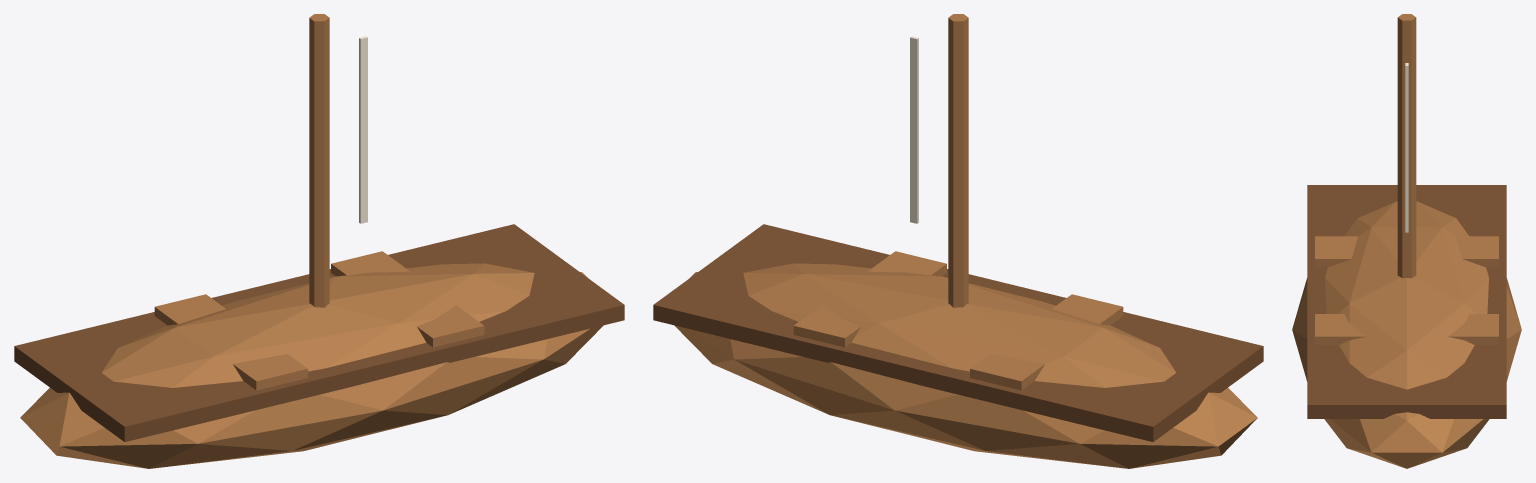
Rendered from boat.glb.
3 renders of one model, left to right at view 1: azimuth 30°, elevation 25°; view 2: azimuth 150°, elevation 25°; view 3: azimuth 270°, elevation 25°, orthographic. The views are drawn at different scales.
Parts seen in each view (by area): view 1: boat; view 2: boat; view 3: boat.
Part boxes in pixels (<box>): boat: <box>14,14,624,468</box>; boat: <box>653,14,1263,468</box>; boat: <box>1292,14,1521,468</box>.
Size of the model in its own units: 3.8 by 2.65 by 1.5.
